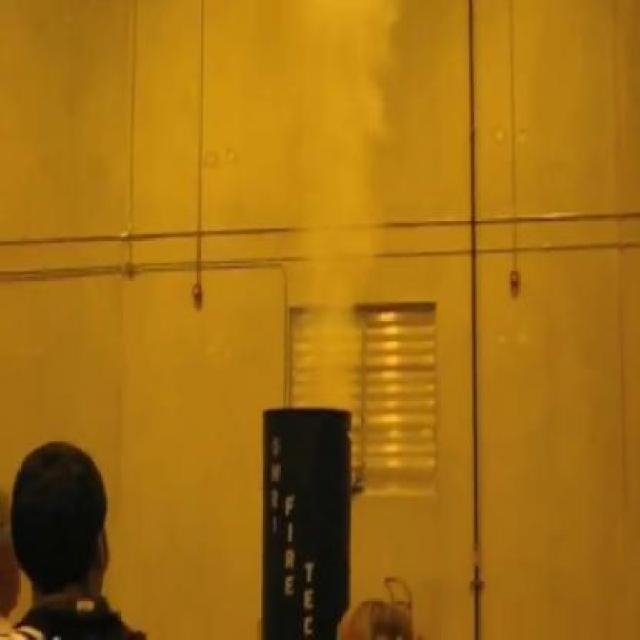fire: (258, 0, 402, 408)
